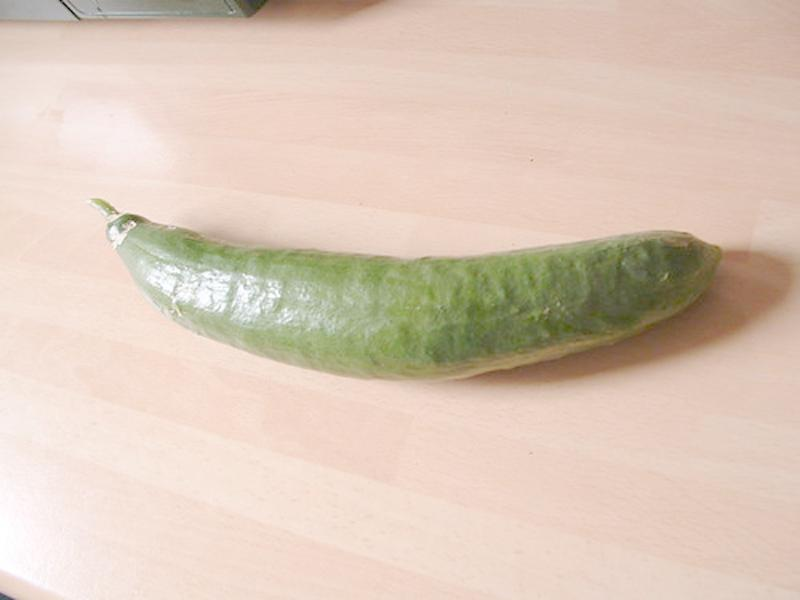Cucumber: (88, 198, 725, 384)
